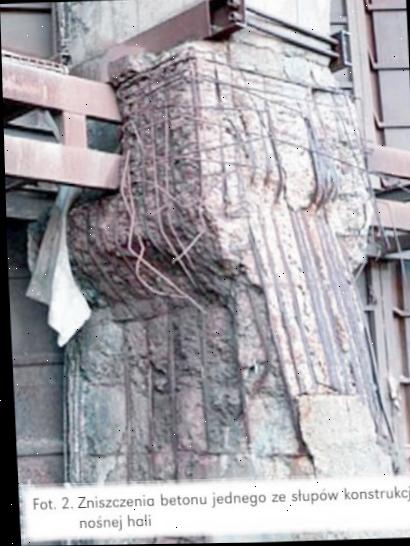spalling: (66, 30, 391, 483)
